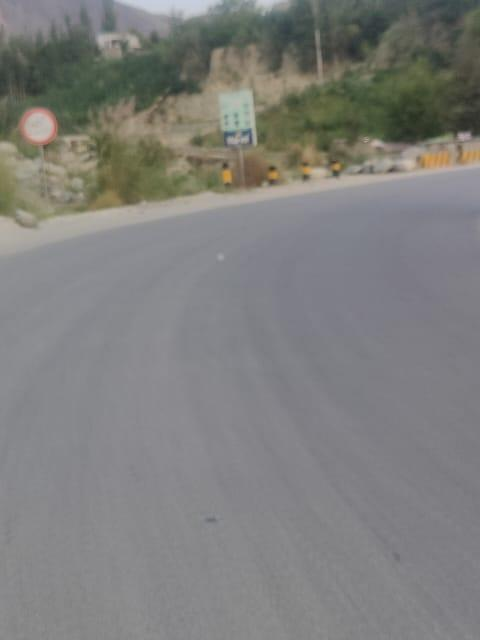right_turn: (23, 43, 480, 303)
